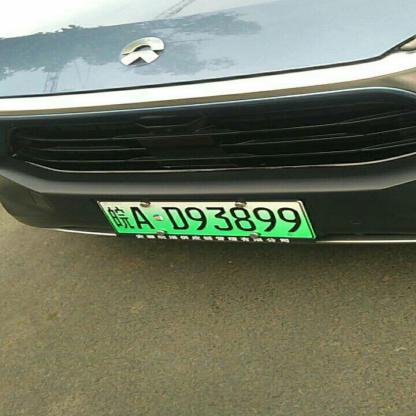lp: (94, 200, 314, 240)
